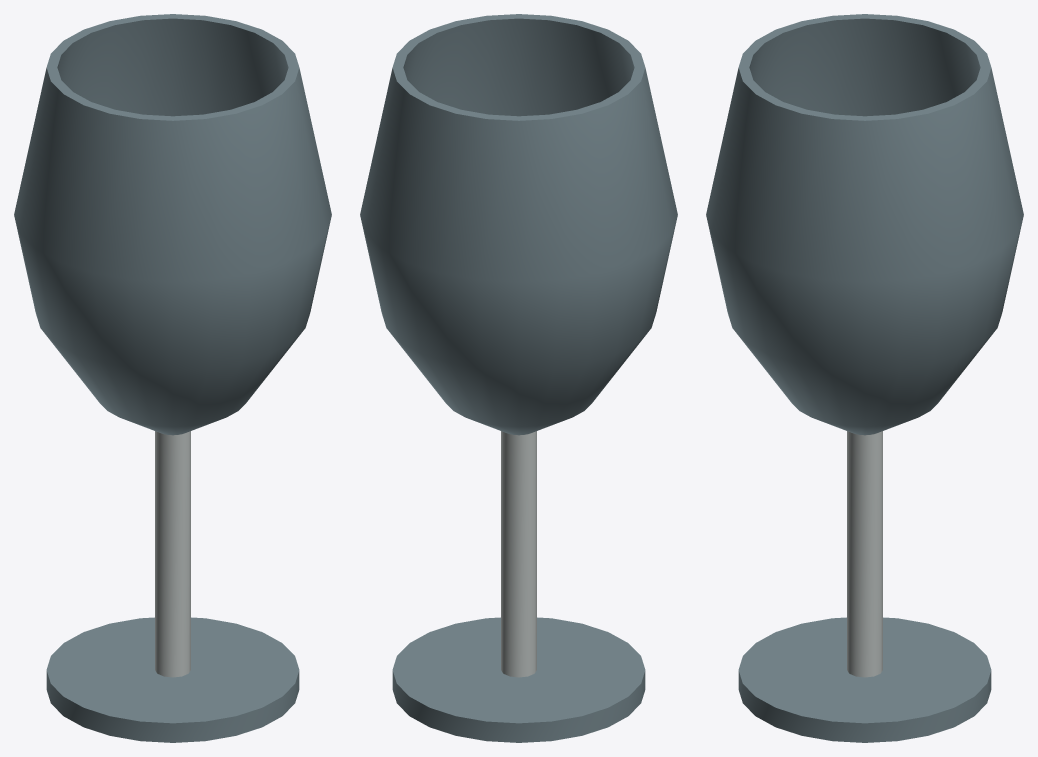
The model's file is wine-glass.glb.
3 views of the same model, side by side, from view 1: azimuth 30°, elevation 25°; view 2: azimuth 150°, elevation 25°; view 3: azimuth 270°, elevation 25° (orthographic).
Parts seen in each view (by area): view 1: bowl, foot, stem; view 2: bowl, foot, stem; view 3: bowl, foot, stem.
Part boxes in pixels (x1,y1,x2,y2): bowl: [14, 14, 331, 435]; foot: [46, 617, 299, 742]; stem: [155, 431, 190, 677]; bowl: [360, 14, 677, 435]; foot: [392, 617, 645, 742]; stem: [501, 431, 536, 677]; bowl: [706, 14, 1023, 435]; foot: [738, 617, 991, 742]; stem: [847, 431, 882, 677].
Size of the model in its own units: 0.088 by 0.19 by 0.088.
